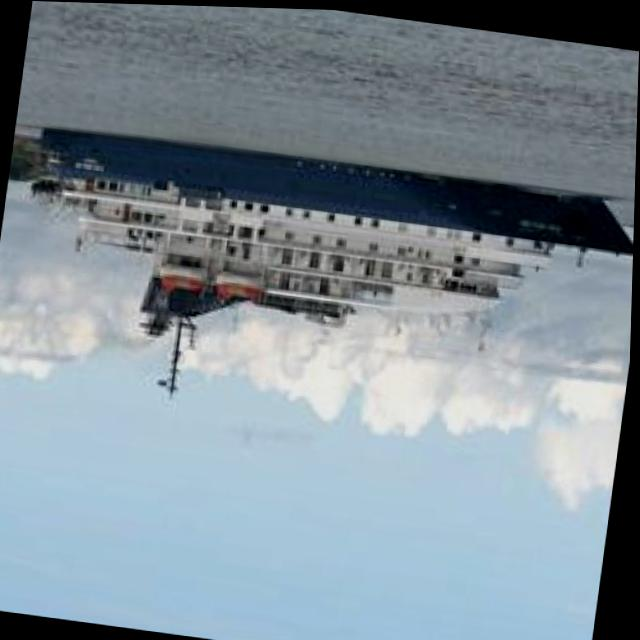ship2: (41, 124, 635, 396)
